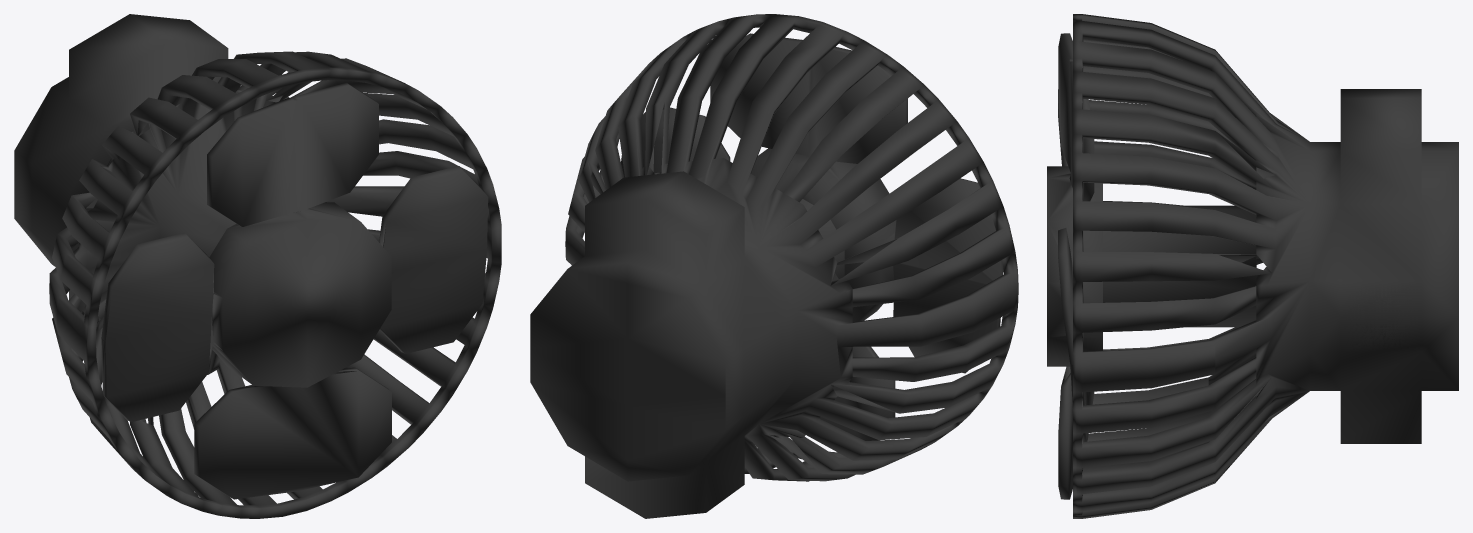
File: fan.obj
The picture shows the model from 3 angles, left to right: view 1: azimuth 30°, elevation 25°; view 2: azimuth 150°, elevation 25°; view 3: azimuth 270°, elevation 25°; orthographic projection. The views are drawn at different scales.
Parts seen in each view (by area): view 1: fan.obj; view 2: fan.obj; view 3: fan.obj.
Part boxes in pixels (box(x1,y1,x2,y2)): fan.obj: box(14, 14, 501, 518); fan.obj: box(530, 14, 1018, 518); fan.obj: box(1047, 14, 1458, 518).
Size of the model in its own units: 5.6 by 5.66 by 4.58.
